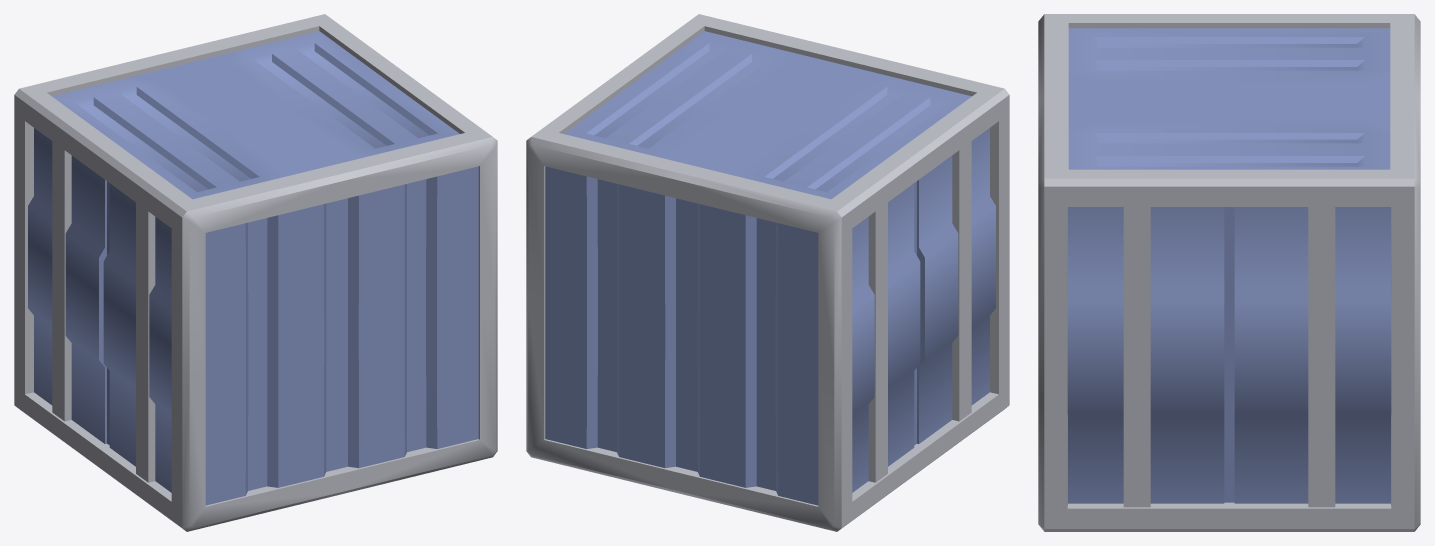
File: Container_Small.fbx
3 views of the same model, side by side, from view 1: azimuth 30°, elevation 25°; view 2: azimuth 150°, elevation 25°; view 3: azimuth 270°, elevation 25° (orthographic). The views are drawn at different scales.
Parts seen in each view (by area): view 1: Container_Small.001; view 2: Container_Small.001; view 3: Container_Small.001.
Boxes of the visible parts, x1,y1,x2,y2 form: Container_Small.001: (14, 14, 497, 531); Container_Small.001: (526, 14, 1009, 531); Container_Small.001: (1038, 14, 1420, 531).
Size of the model in its own units: 2.19 by 2.13 by 2.09.
